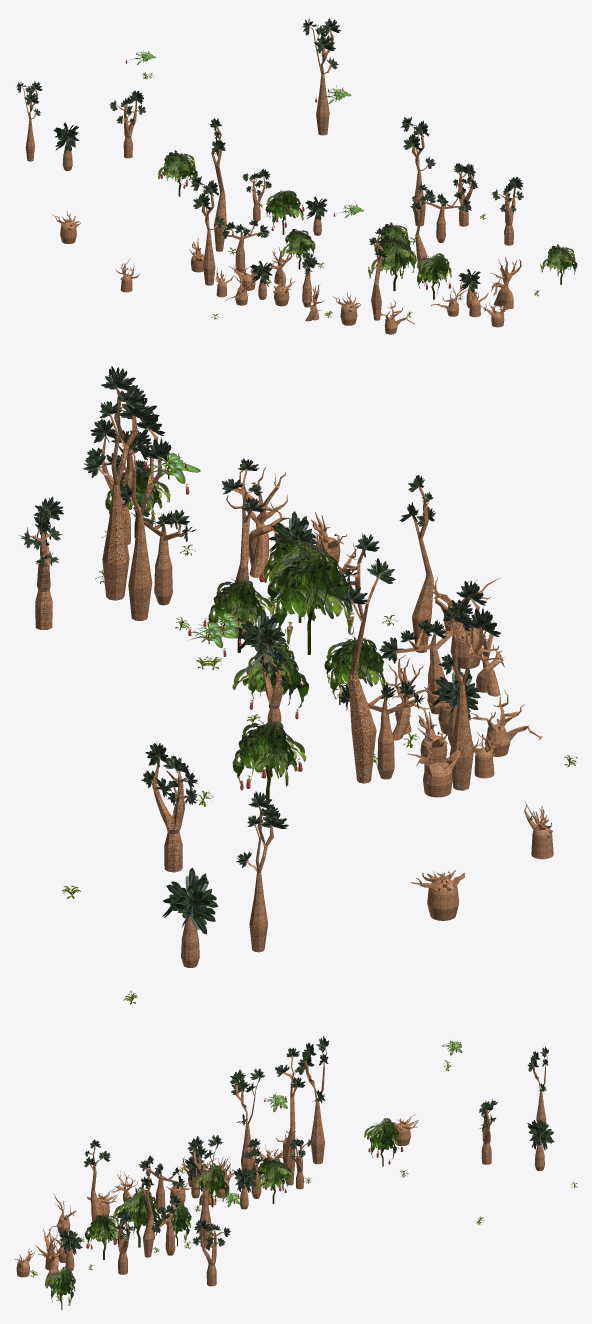
Rendered from wholeIsland_plants1.glb.
3 renders of one model, top to bottom at view 1: azimuth 30°, elevation 25°; view 2: azimuth 150°, elevation 25°; view 3: azimuth 270°, elevation 25°, orthographic. The views are drawn at different scales.
Parts seen in each view (by area): view 1: plants1; view 2: plants1; view 3: plants1.
Part boxes in pixels (x1,y1,x2,y2): plants1: (16, 18, 577, 334); plants1: (19, 366, 577, 1004); plants1: (14, 1036, 577, 1309).
Bounding box in the file's own units: 52.72 × 30.98 × 71.58.
Materials: 5 (5 with a texture image).
